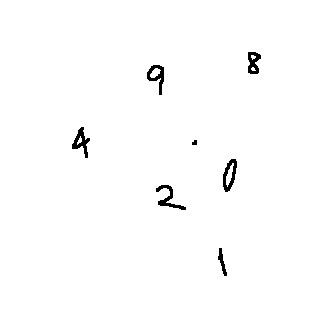.: (186, 133, 202, 158)
0: (218, 151, 249, 197)
1: (209, 244, 239, 288)
2: (146, 180, 192, 224)
4: (67, 117, 99, 175)
8: (239, 41, 275, 82)
9: (143, 57, 171, 98)
